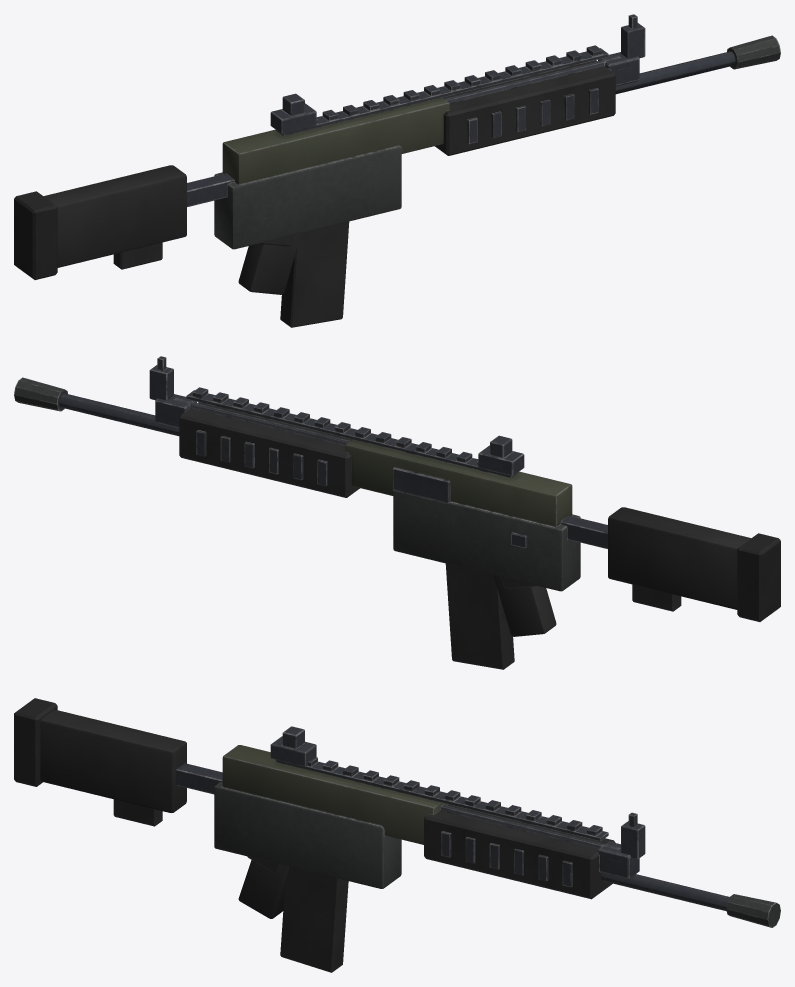
Rendered from weapon_assault_rifle.glb.
The picture shows the model from 3 angles, top to bottom: view 1: azimuth 30°, elevation 25°; view 2: azimuth 150°, elevation 25°; view 3: azimuth 330°, elevation 25°; orthographic projection.
Parts seen in each view (by area): view 1: Body, DefaultStock, DefaultMag, IronSights, DefaultBarrel, DefaultMuzzle; view 2: Body, DefaultStock, DefaultMag, IronSights, DefaultBarrel, DefaultMuzzle; view 3: Body, DefaultStock, DefaultMag, IronSights, DefaultBarrel, DefaultMuzzle.
Boxes of the visible parts, bbox=[...] form: Body: bbox=[187, 45, 639, 294]; DefaultStock: bbox=[14, 165, 186, 279]; DefaultMag: bbox=[280, 221, 349, 327]; IronSights: bbox=[270, 14, 645, 133]; DefaultBarrel: bbox=[615, 51, 735, 94]; DefaultMuzzle: bbox=[727, 35, 780, 69]; Body: bbox=[155, 387, 607, 636]; DefaultStock: bbox=[608, 507, 780, 621]; DefaultMag: bbox=[445, 563, 514, 669]; IronSights: bbox=[149, 356, 524, 475]; DefaultBarrel: bbox=[59, 393, 179, 436]; DefaultMuzzle: bbox=[14, 377, 67, 411]; Body: bbox=[176, 745, 639, 918]; DefaultStock: bbox=[14, 698, 186, 826]; DefaultMag: bbox=[280, 867, 348, 972]; IronSights: bbox=[270, 726, 645, 859]; DefaultBarrel: bbox=[601, 873, 729, 911]; DefaultMuzzle: bbox=[726, 894, 780, 927].
Bounding box in the file's own units: 1.06 × 0.3083 × 0.068.
1 material, 1 textured.
